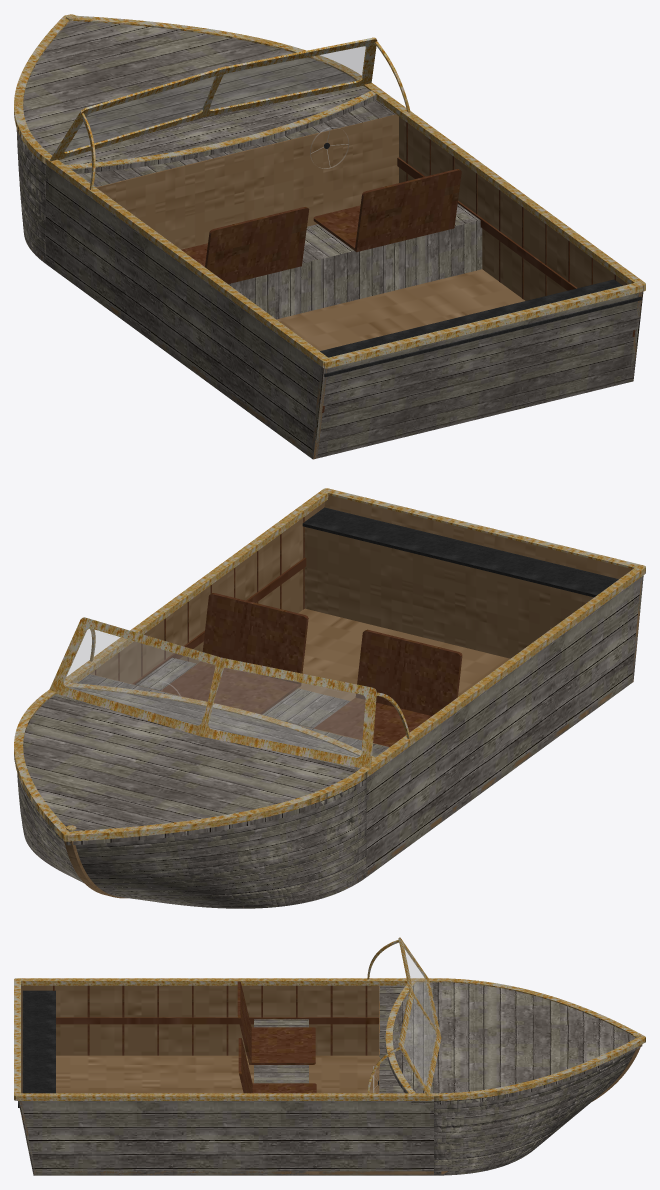
Rendered from boat.glb.
The picture shows the model from 3 angles, top to bottom: view 1: azimuth 30°, elevation 25°; view 2: azimuth 150°, elevation 25°; view 3: azimuth 270°, elevation 25°; orthographic projection. The views are drawn at different scales.
Visible parts, largest first — view 1: Cube.001; view 2: Cube.001; view 3: Cube.001.
Part boxes in pixels (x1,y1,x2,y2): Cube.001: [14, 14, 645, 459]; Cube.001: [14, 488, 645, 908]; Cube.001: [14, 937, 645, 1175].
Bounding box in the file's own units: 8.04 × 4.03 × 18.2.
6 materials, 6 textured.
